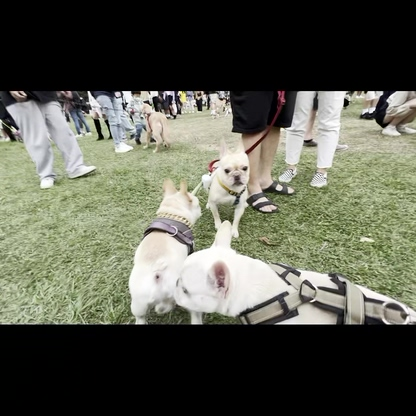bulldog: (201, 134, 256, 237)
